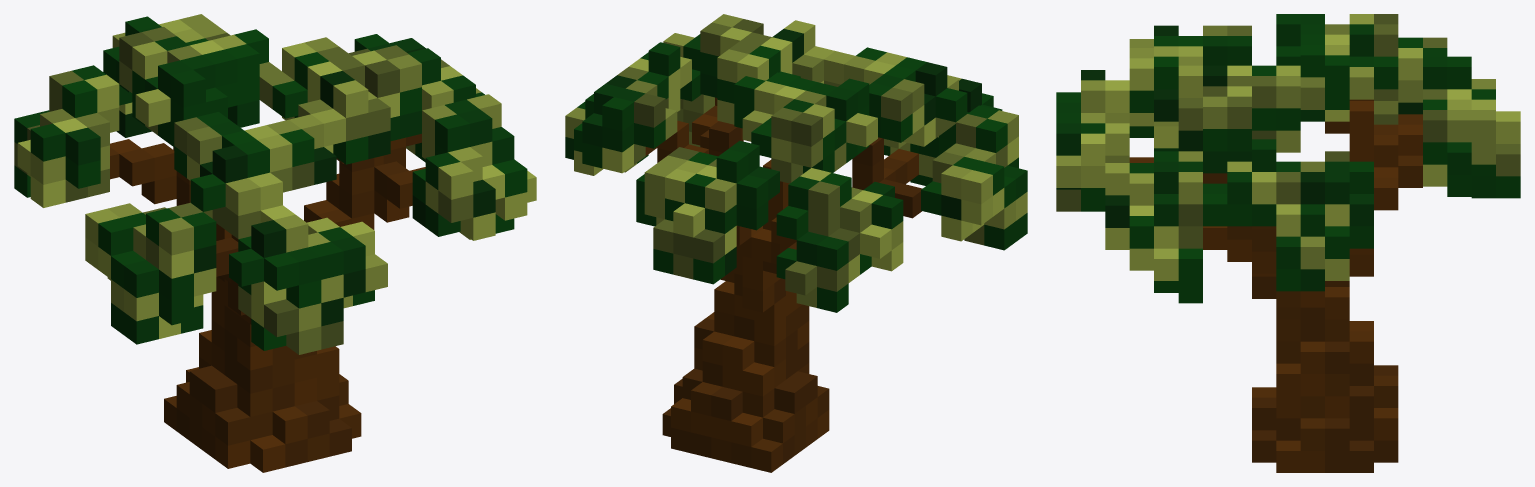
Rendered from Shrub3-0-2.obj.
3 renders of one model, left to right at view 1: azimuth 30°, elevation 25°; view 2: azimuth 150°, elevation 25°; view 3: azimuth 270°, elevation 25°, orthographic. The views are drawn at different scales.
Parts seen in each view (by area): view 1: 2; view 2: 2; view 3: 2.
Boxes of the visible parts, x1=… form: 2: x1=14, y1=14, x2=536, y2=472; 2: x1=565, y1=14, x2=1027, y2=472; 2: x1=1056, y1=14, x2=1520, y2=472.
Size of the model in its own units: 3.8 by 3.4 by 3.8.
1 material, 1 textured.
